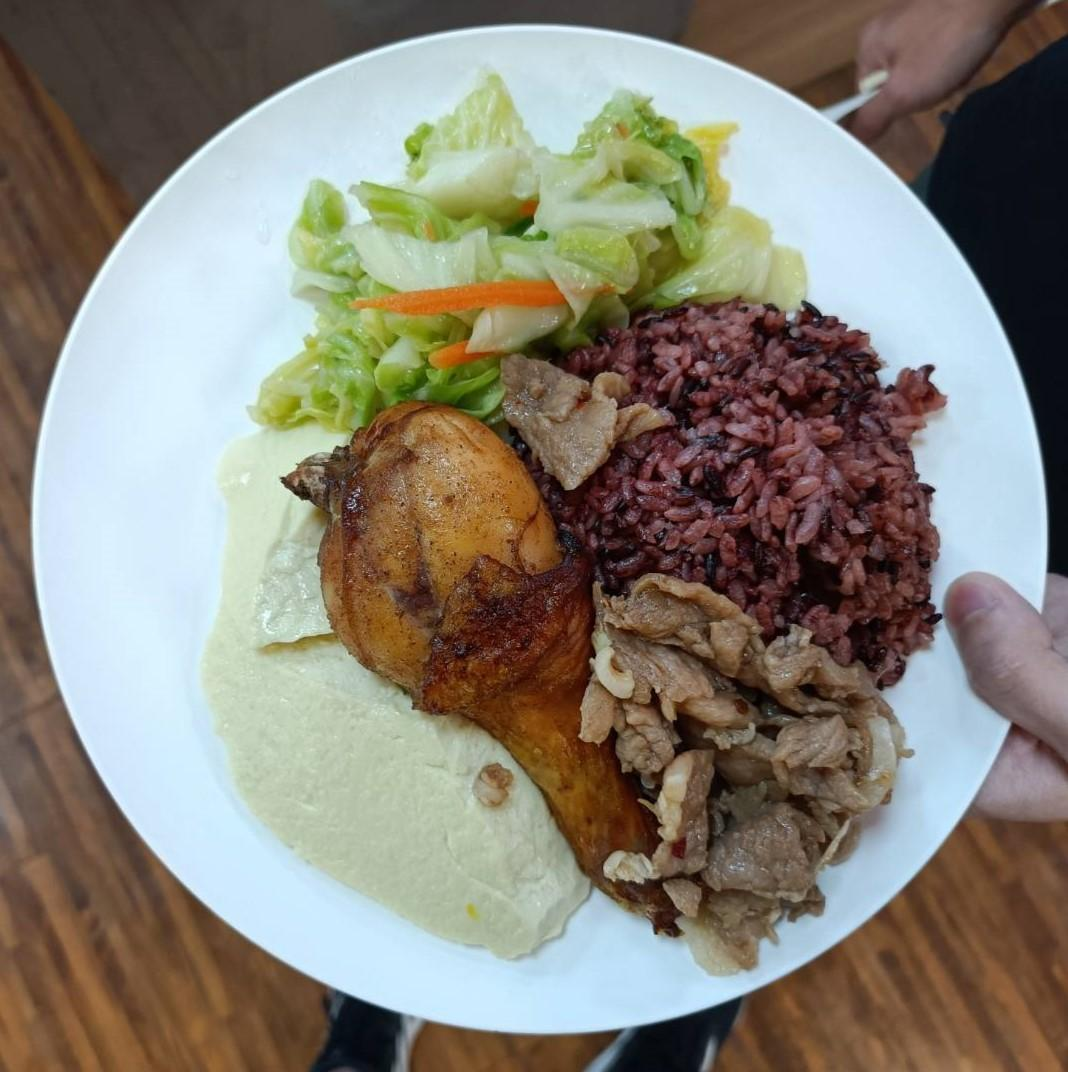big fried chicken leg: (20, 28, 1060, 1023)
braised fish: (562, 303, 938, 673)
braised fish fillet: (198, 418, 586, 957), (262, 83, 803, 416)
braised pork: (298, 401, 688, 919), (580, 576, 908, 969)
